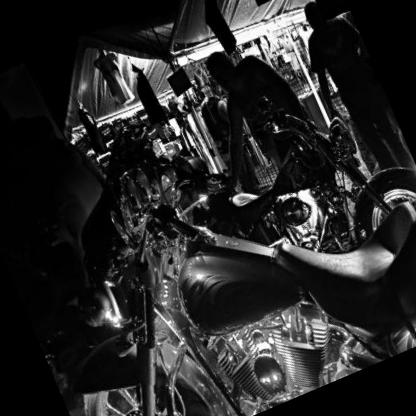moto: (11, 114, 416, 416)
